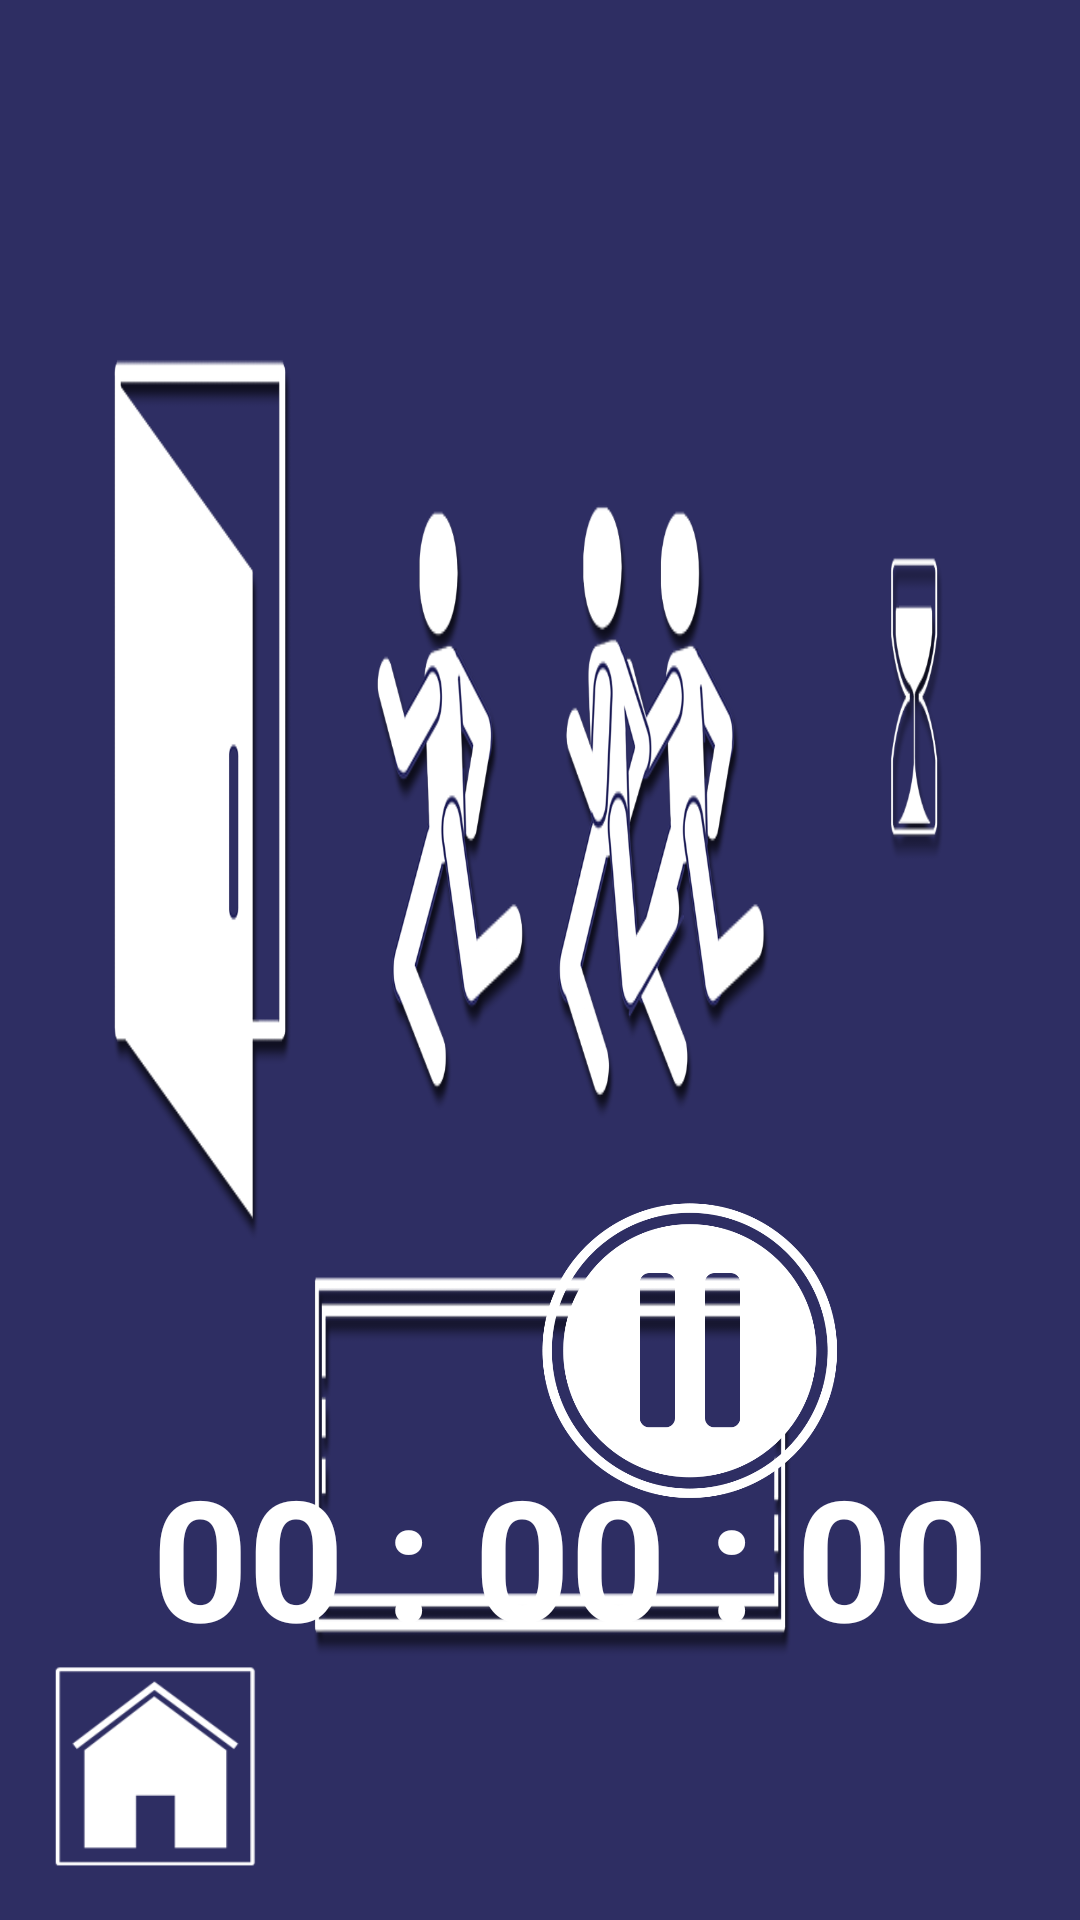

Where to tap for icons on this 1080px×1920px app screen, as (x,y):
home: (155,1766)
